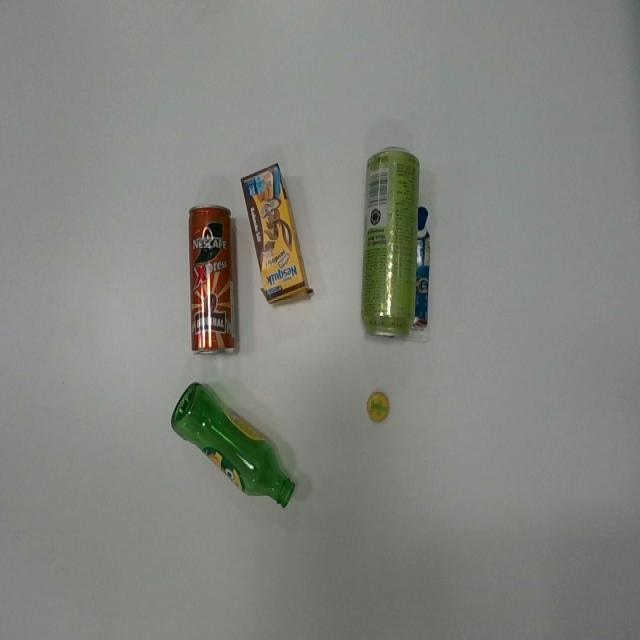glass: (170, 380, 296, 512)
metal: (359, 144, 421, 340), (188, 202, 237, 356), (365, 389, 392, 425)
paper: (240, 162, 314, 306)
plastic: (414, 205, 431, 332)
